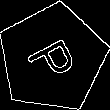P_NE: (22, 30, 83, 86)
